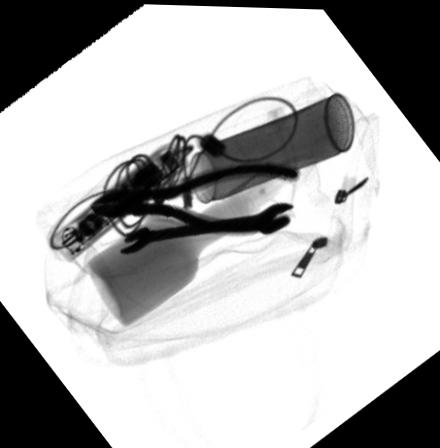Pliers: (89, 161, 304, 234)
Wrench: (120, 200, 293, 254)
